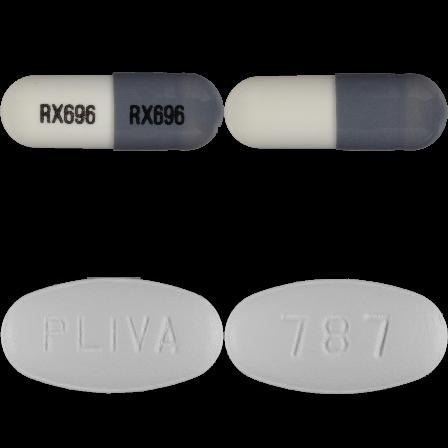61786-263: (0, 0, 224, 224)
